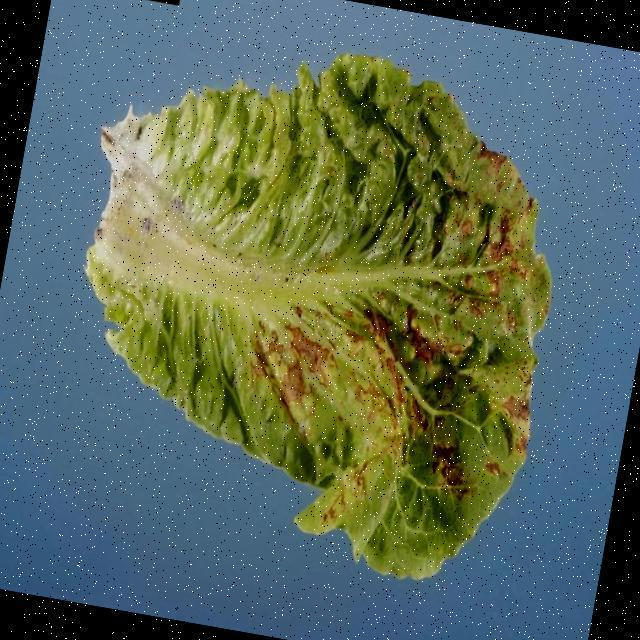Lettuce Mosaic Virus: (214, 128, 521, 474)
